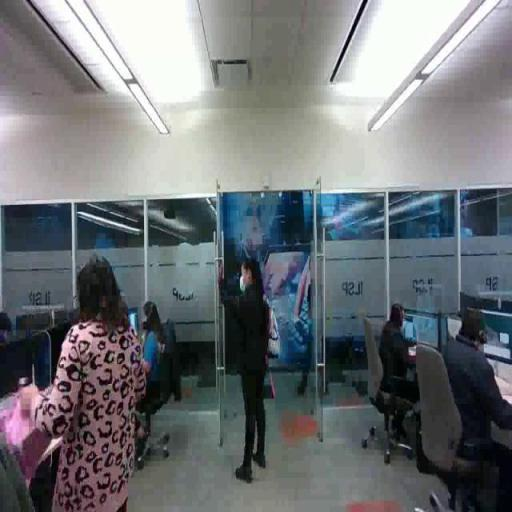person: (27, 241, 148, 512), (427, 306, 512, 512), (214, 247, 275, 484), (373, 298, 433, 429), (124, 301, 185, 427)
